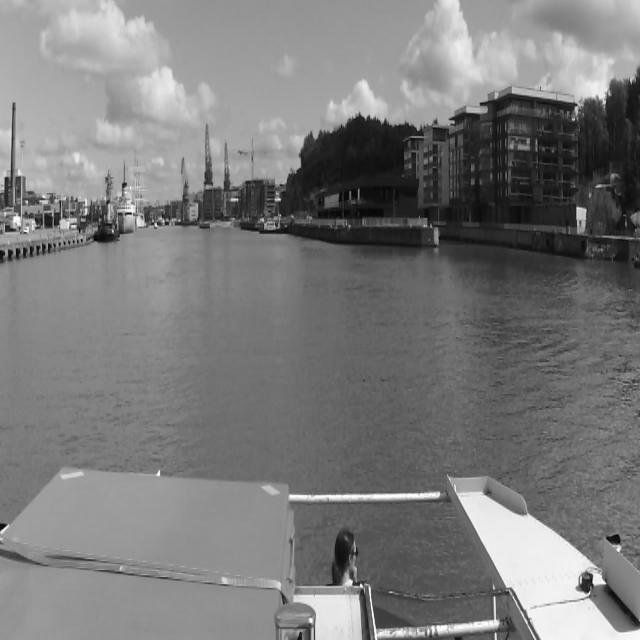ship: (114, 181, 134, 231), (96, 197, 116, 242), (136, 150, 146, 228), (154, 222, 158, 230)
